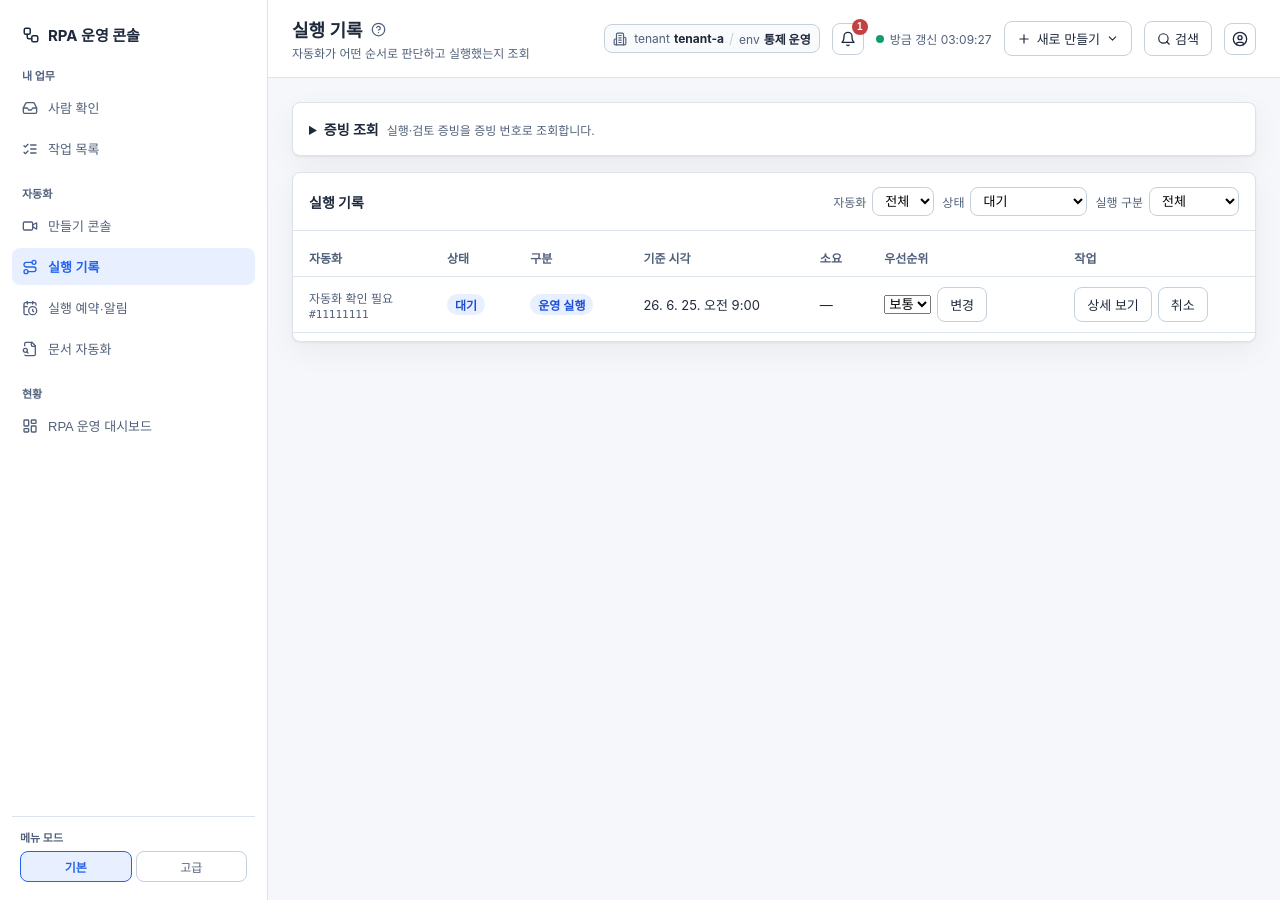
Test: RunTrace queued-run priority action › operator can change queued run priority from the trace table
The width and height of the screenshot is (1280, 900).
Select "긴급" in the dropdown named "실행 우선순위" at (908, 304), box [884,295,931,314]
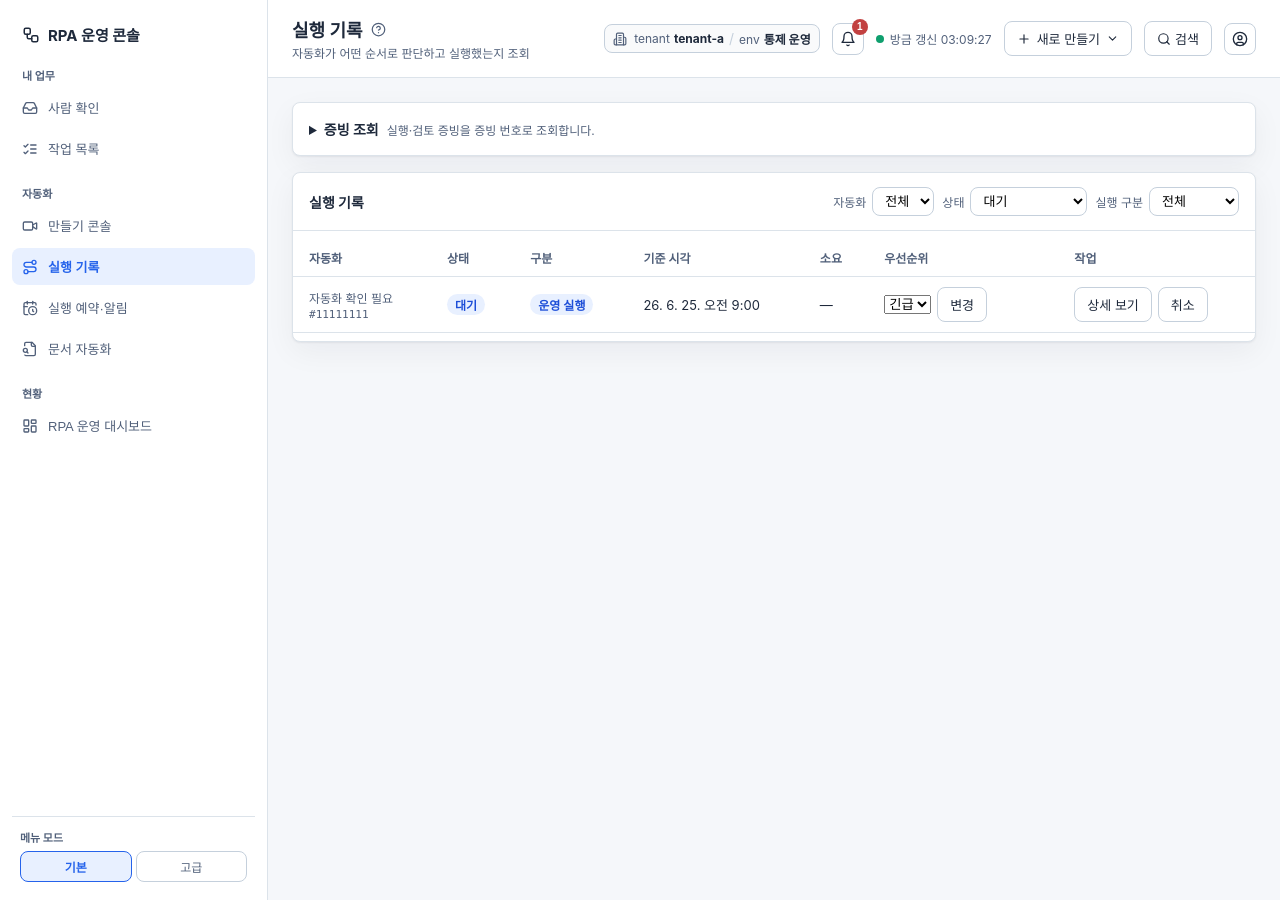
Click the button "변경" at (962, 304), box [937,287,987,322]
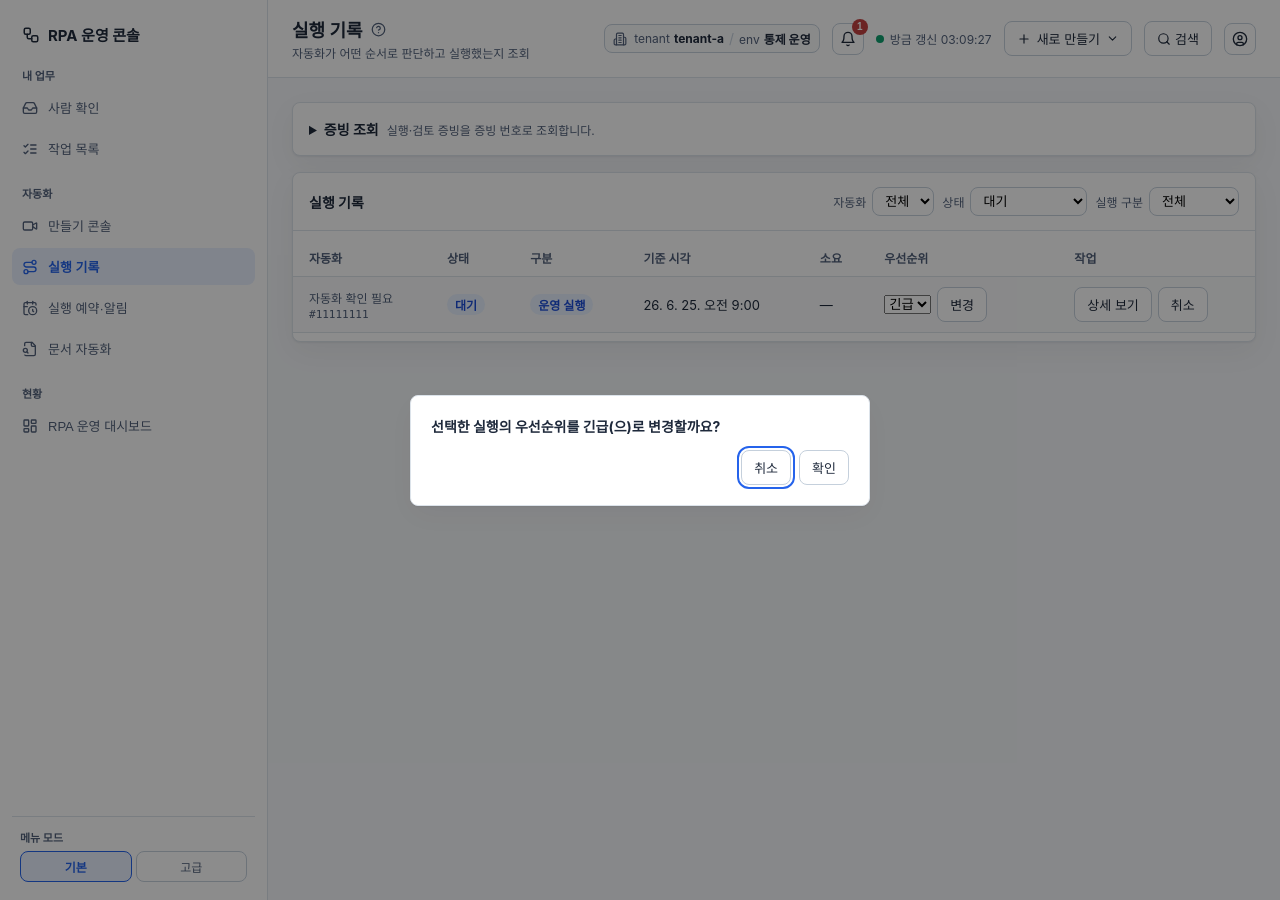
Expected: the button "확인" is shown
Click the button "확인" at (824, 467), box [799,450,849,484]
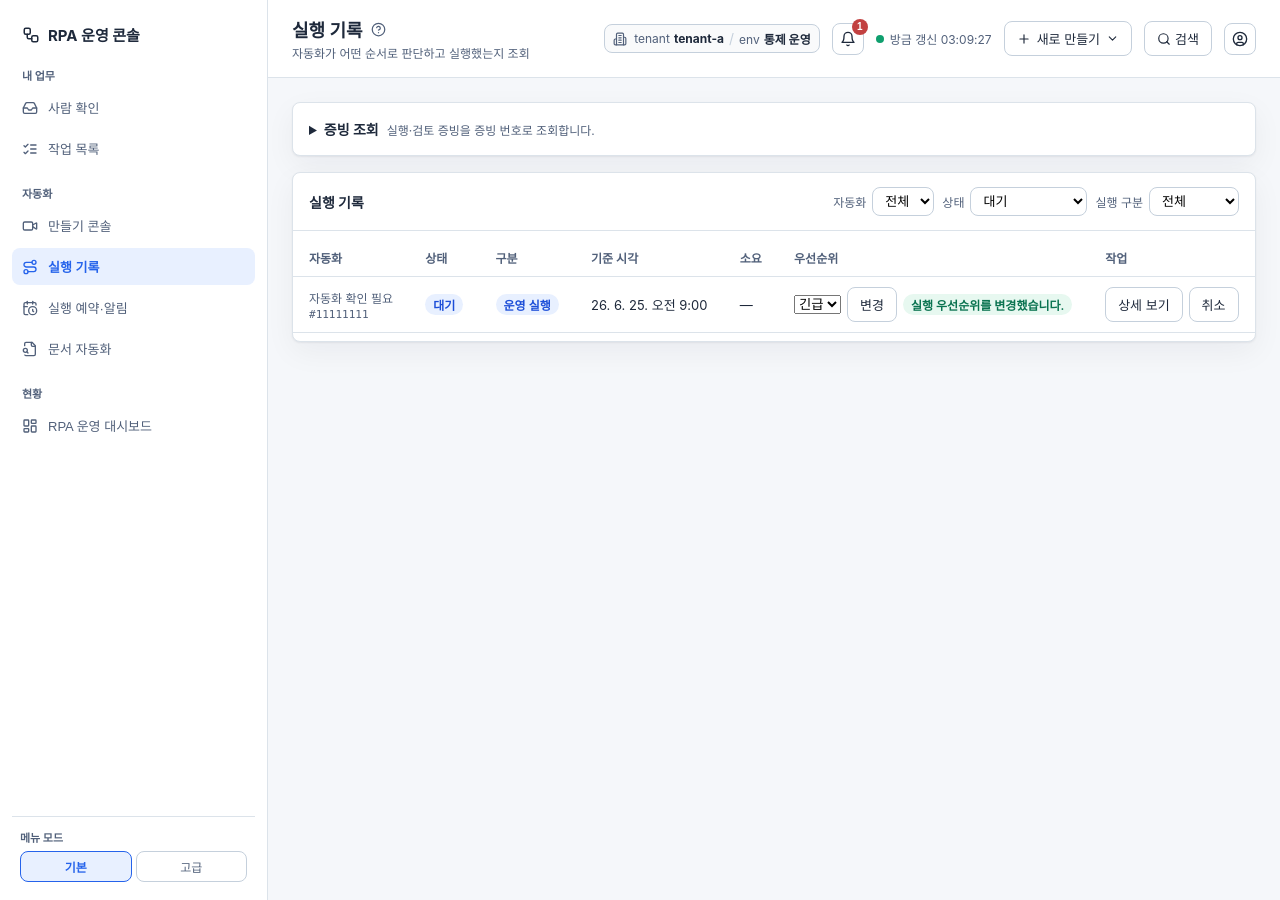
Expected: the text "실행 우선순위를 변경했습니다." is shown, [903,294,1072,315]
